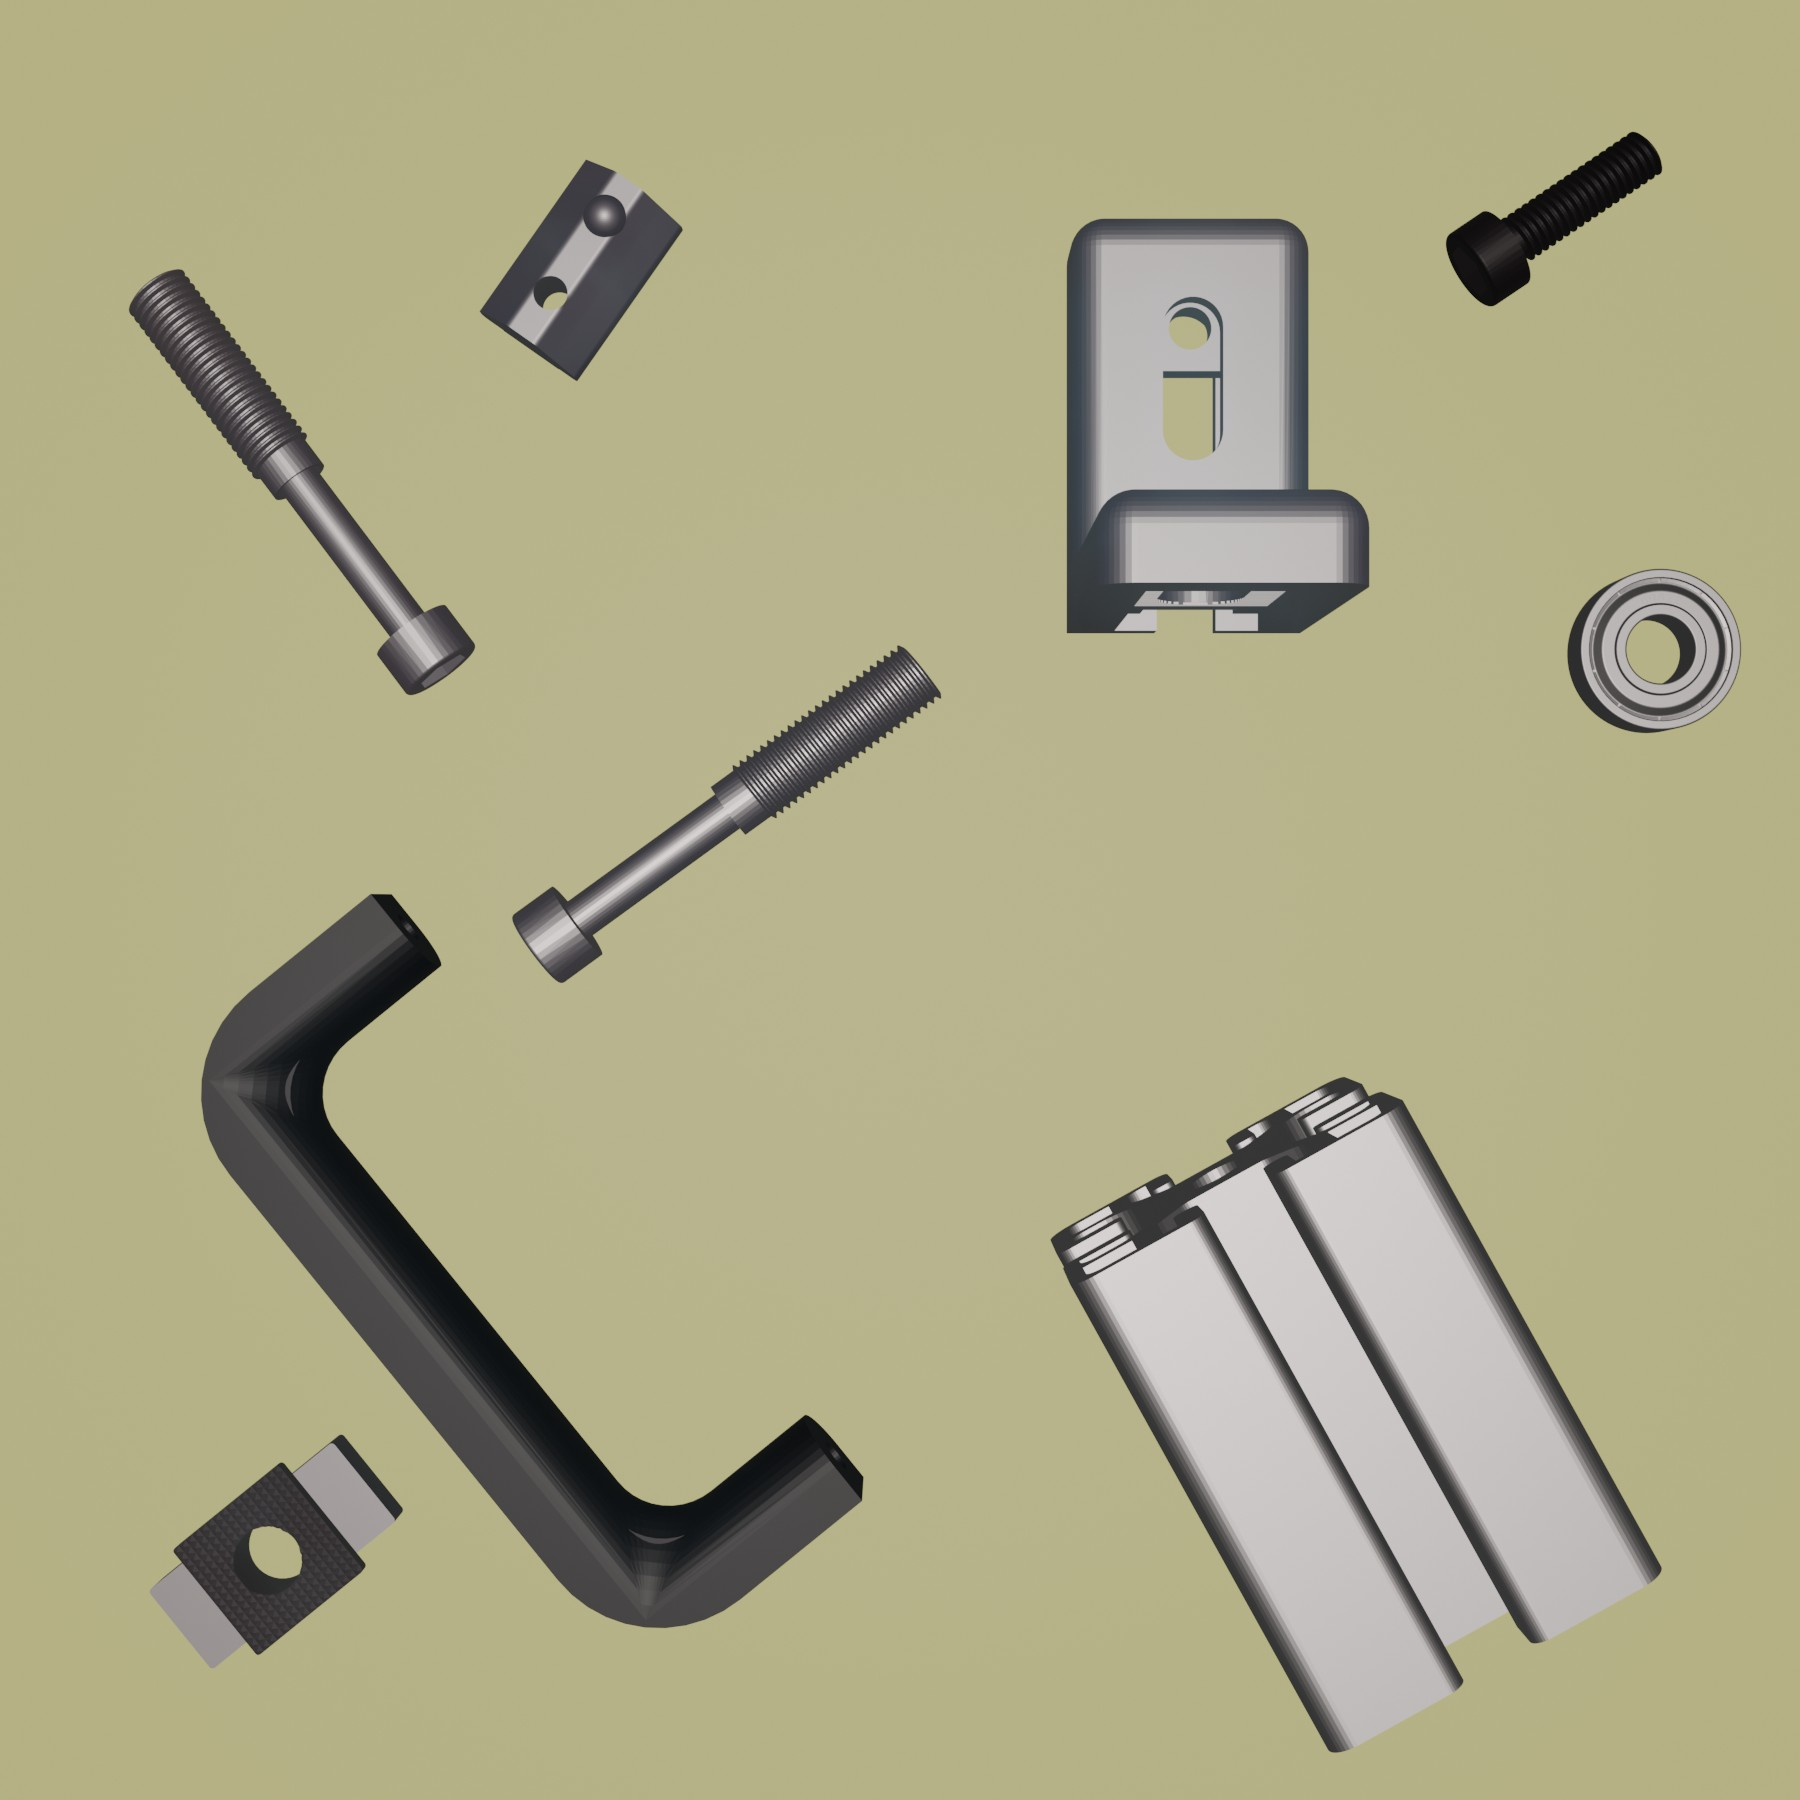Aluminium Extension: (1050, 1073, 1663, 1755)
Ball Bearing: (1564, 565, 1742, 737)
Multiwinkel: (1058, 213, 1375, 638)
Pull Handle: (201, 888, 865, 1630)
Shoulder Socket Head Cap Screw: (125, 265, 476, 697), (511, 641, 946, 986)
Socket Head Cap Screw: (1446, 127, 1662, 308)
T Nut Square: (147, 1432, 405, 1671)
T Spring Nut: (480, 153, 686, 386)
